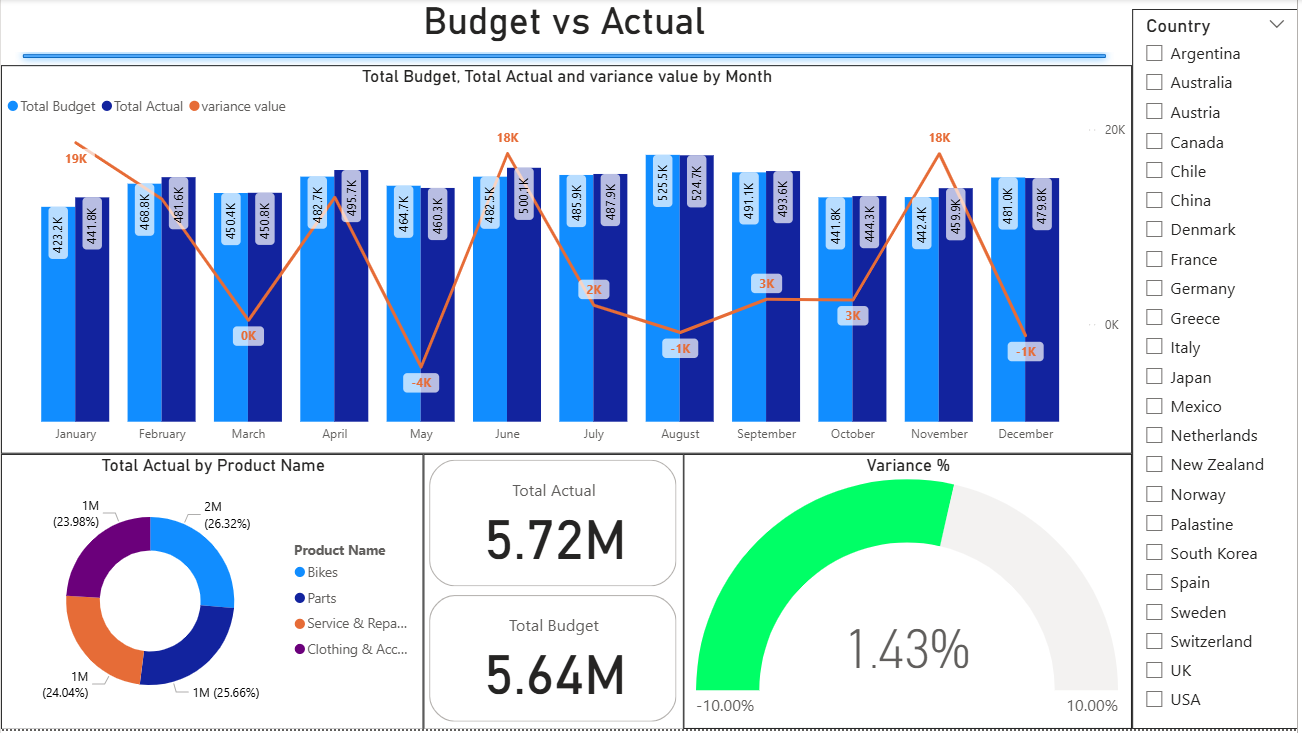

The dashboard page shown, as its layout file describes it:
{"tool":"powerbi","page":{"name":"Home","canvas":[1280,720],"ordinal":1},"visuals":[{"type":"lineClusteredColumnComboChart","fields":{"Category":["Calendar Table.Date.Variation.Date Hierarchy.Month"],"Y":["Measure.Total Budget","Measure.Total Actual"],"Y2":["Measure.variance value"]},"box":[0,65.9,1115.6,382.8],"z":0},{"type":"slicer","fields":{"Values":["Region.Country"]},"box":[1116,9.7,164.1,710.6],"z":1000},{"type":"donutChart","fields":{"Category":["Product Data.Product Name"],"Y":["Measure.Total Actual"]},"box":[0,448.7,417.2,271.7],"z":2000},{"type":"cardVisual","fields":{"Data":["Measure.Total Actual","Measure.Total Budget"]},"box":[417.2,448.7,256.6,271.7],"z":3000},{"type":"gauge","fields":{"Y":["Measure.Variance %"]},"box":[674,449,442,271],"z":4000},{"type":"shape","title":"Budget vs Actual","box":[13.3,0,1084.6,66.4],"z":5000}]}

Visuals, with their boxes in screenshot pixels (x1, y1, x2, y2), scaled from the page's 1280x720 canvas onto the 1302x733 screenshot:
lineClusteredColumnComboChart - Calendar Table.Date.Variation.Date Hierarchy.Month x Measure.Total Budget: locate(0, 67, 1135, 457)
slicer - Region.Country: locate(1135, 10, 1301, 732)
donutChart - Product Data.Product Name x Measure.Total Actual: locate(0, 457, 424, 732)
cardVisual - Measure.Total Actual x Measure.Total Budget: locate(424, 457, 685, 732)
gauge - Measure.Variance %: locate(686, 457, 1135, 732)
"Budget vs Actual" shape: locate(14, 0, 1117, 68)
